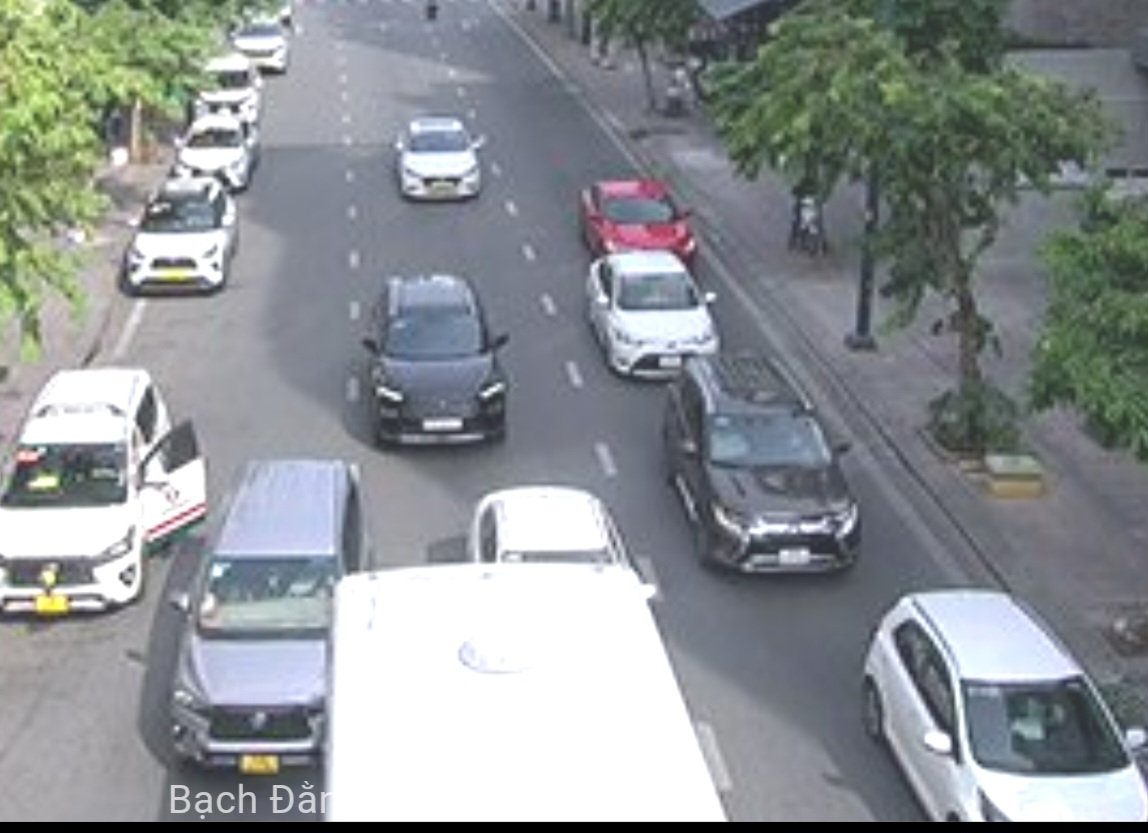car: (868, 584, 1147, 833), (176, 446, 349, 777), (658, 358, 864, 584), (6, 361, 165, 630), (367, 268, 514, 461), (583, 252, 721, 381), (122, 179, 237, 302), (578, 180, 698, 256), (392, 114, 484, 204), (168, 117, 260, 186), (187, 60, 271, 121)
